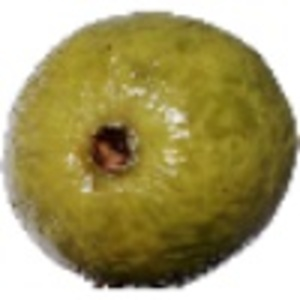goiaba: (3, 5, 297, 289)
